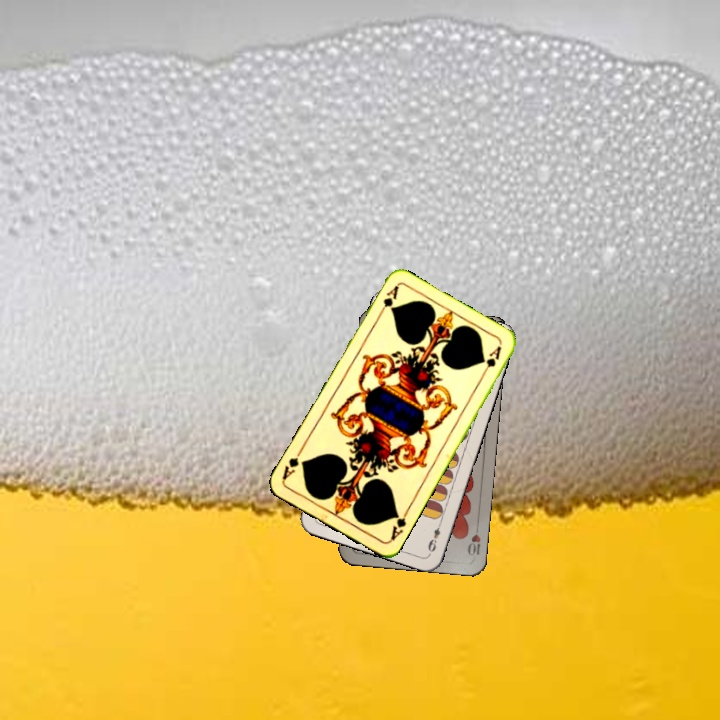E9: (424, 517, 445, 555)
GA: (374, 282, 401, 319), (386, 506, 411, 543)
H10: (463, 519, 483, 558)
